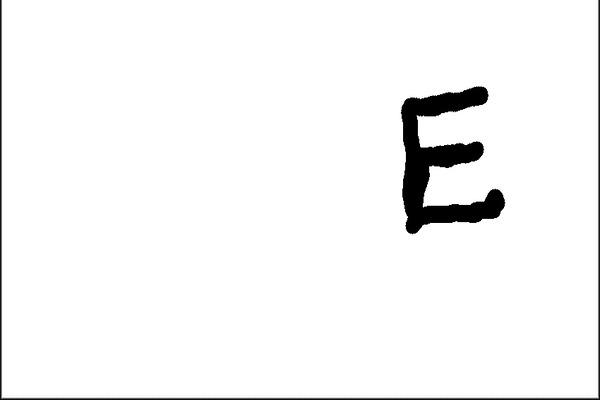E: (394, 82, 507, 235)
